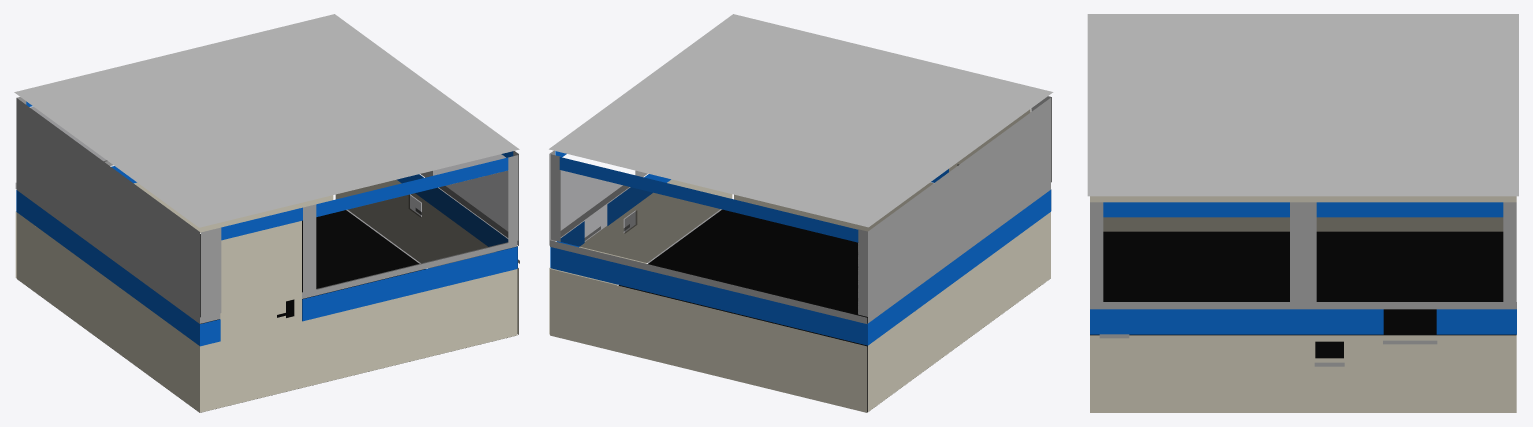
The model's file is worker_booth.glb.
The picture shows the model from 3 angles, left to right: view 1: azimuth 30°, elevation 25°; view 2: azimuth 150°, elevation 25°; view 3: azimuth 270°, elevation 25°; orthographic projection. The views are drawn at different scales.
Visible parts, largest first — view 1: Plane.001, Front_Middle_Silver_Pillar.002, Left__Right_Bottom_Panel, Right_Glass_Panel.001, Booth_Door, Back_Left_Bottom_Panel, Back_Right_Bottom_Panel, Plane, Left_Right_Middle_Panel, Front_Right_Bottom_Panel, Front_Left_Glass_Panel, Back_Right_Middle_Panel (+17 smaller); view 2: Plane.001, Right_Glass_Panel, Front_Middle_Silver_Pillar.002, Plane, Right__Right_Bottom_Panel, Right__Left_Bottom_Panel, Back_Left_Bottom_Panel, Back_Right_Bottom_Panel, Right_Right_Middle_Panel, Right_Left_Middle_Panel, Front_Left_Bottom_Panel, Back_Left_Middle_Panel (+14 smaller); view 3: Plane.001, Plane, Front_Left_Bottom_Panel, Front_Right_Bottom_Panel, Front_Left_Glass_Panel, Front_Right_Glass_Panel.001, Front_Left_Middle_Panel, Back_Left_Bottom_Panel, Back_Right_Bottom_Panel, Front_Top_Right_Blue_Panel, Front_Top_Left_Blue_Panel, Front_Middle_Silver_Pillar (+8 smaller).
Part boxes in pixels (x1=…): Plane.001: x1=14, y1=14, x2=519, y2=227; Front_Middle_Silver_Pillar.002: x1=22, y1=102, x2=197, y2=314; Left__Right_Bottom_Panel: x1=302, y1=269, x2=517, y2=387; Right_Glass_Panel.001: x1=316, y1=171, x2=507, y2=289; Booth_Door: x1=220, y1=221, x2=301, y2=407; Back_Left_Bottom_Panel: x1=16, y1=212, x2=108, y2=345; Back_Right_Bottom_Panel: x1=108, y1=279, x2=199, y2=412; Plane: x1=200, y1=210, x2=507, y2=412; Left_Right_Middle_Panel: x1=302, y1=247, x2=517, y2=321; Front_Right_Bottom_Panel: x1=335, y1=179, x2=427, y2=263; Front_Left_Glass_Panel: x1=433, y1=154, x2=507, y2=230; Back_Right_Middle_Panel: x1=108, y1=257, x2=199, y2=345; Plane.001: x1=549, y1=14, x2=1053, y2=227; Right_Glass_Panel: x1=561, y1=170, x2=857, y2=314; Front_Middle_Silver_Pillar.002: x1=873, y1=100, x2=1048, y2=312; Plane: x1=618, y1=209, x2=867, y2=412; Right__Right_Bottom_Panel: x1=708, y1=308, x2=867, y2=412; Right__Left_Bottom_Panel: x1=550, y1=269, x2=708, y2=374; Back_Left_Bottom_Panel: x1=868, y1=279, x2=959, y2=411; Back_Right_Bottom_Panel: x1=959, y1=212, x2=1050, y2=344; Right_Right_Middle_Panel: x1=709, y1=285, x2=867, y2=345; Right_Left_Middle_Panel: x1=551, y1=247, x2=709, y2=306; Front_Left_Bottom_Panel: x1=641, y1=179, x2=732, y2=263; Back_Left_Middle_Panel: x1=868, y1=257, x2=959, y2=345; Plane.001: x1=1087, y1=14, x2=1518, y2=196; Plane: x1=1090, y1=231, x2=1516, y2=358; Front_Left_Bottom_Panel: x1=1090, y1=335, x2=1303, y2=412; Front_Right_Bottom_Panel: x1=1303, y1=335, x2=1516, y2=412; Front_Left_Glass_Panel: x1=1103, y1=217, x2=1289, y2=301; Front_Right_Glass_Panel.001: x1=1317, y1=217, x2=1502, y2=301; Front_Left_Middle_Panel: x1=1090, y1=309, x2=1303, y2=334; Back_Left_Bottom_Panel: x1=1303, y1=196, x2=1516, y2=231; Back_Right_Bottom_Panel: x1=1090, y1=196, x2=1303, y2=231; Front_Top_Right_Blue_Panel: x1=1316, y1=202, x2=1503, y2=217; Front_Top_Left_Blue_Panel: x1=1103, y1=202, x2=1289, y2=217; Front_Middle_Silver_Pillar: x1=1290, y1=202, x2=1316, y2=301.
Size of the model in its own units: 21.38 by 11.65 by 21.28.
